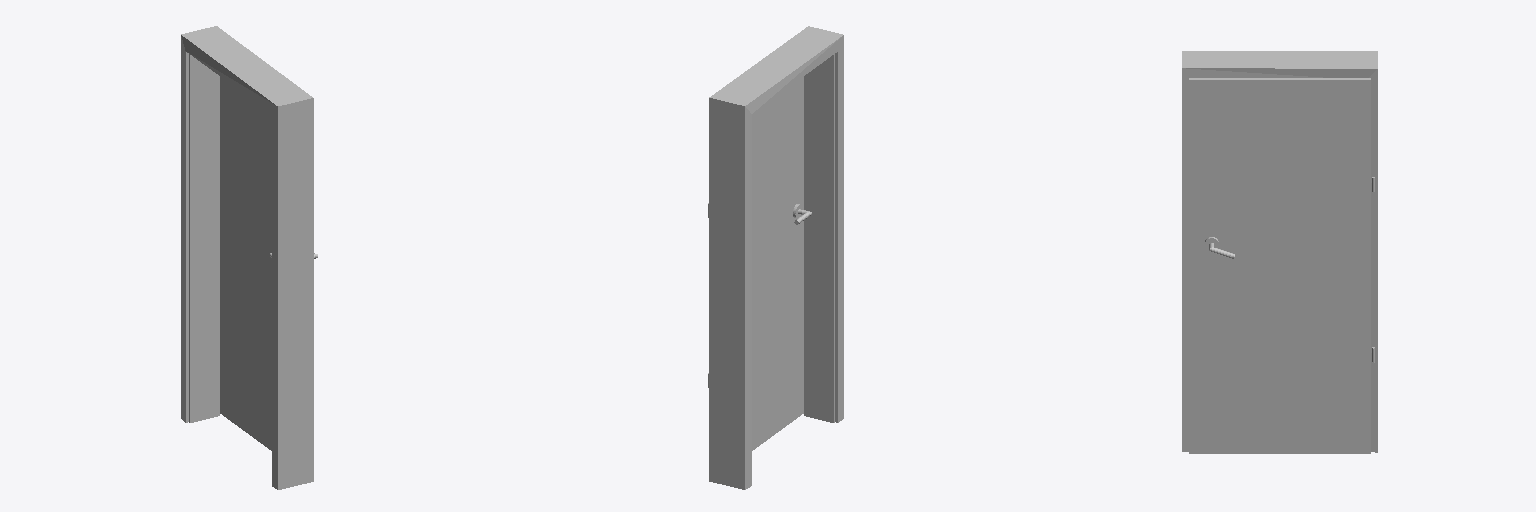
The model's file is door42.obj.
3 renders of one model, left to right at view 1: azimuth 30°, elevation 25°; view 2: azimuth 150°, elevation 25°; view 3: azimuth 270°, elevation 25°, orthographic.
Visible parts, largest first — view 1: Cylinder.005, Cylinder.001; view 2: Cylinder.005, Cylinder.001; view 3: Cylinder.001, Cylinder.005.
Boxes of the visible parts, box(x1,y1,x2,y2) form: Cylinder.005: box(181, 26, 313, 489); Cylinder.001: box(220, 77, 271, 450); Cylinder.005: box(708, 26, 843, 489); Cylinder.001: box(708, 77, 803, 450); Cylinder.001: box(1189, 78, 1374, 453); Cylinder.005: box(1182, 51, 1377, 452).
Bounding box in the file's own units: 0.3039 × 2.05 × 0.95.